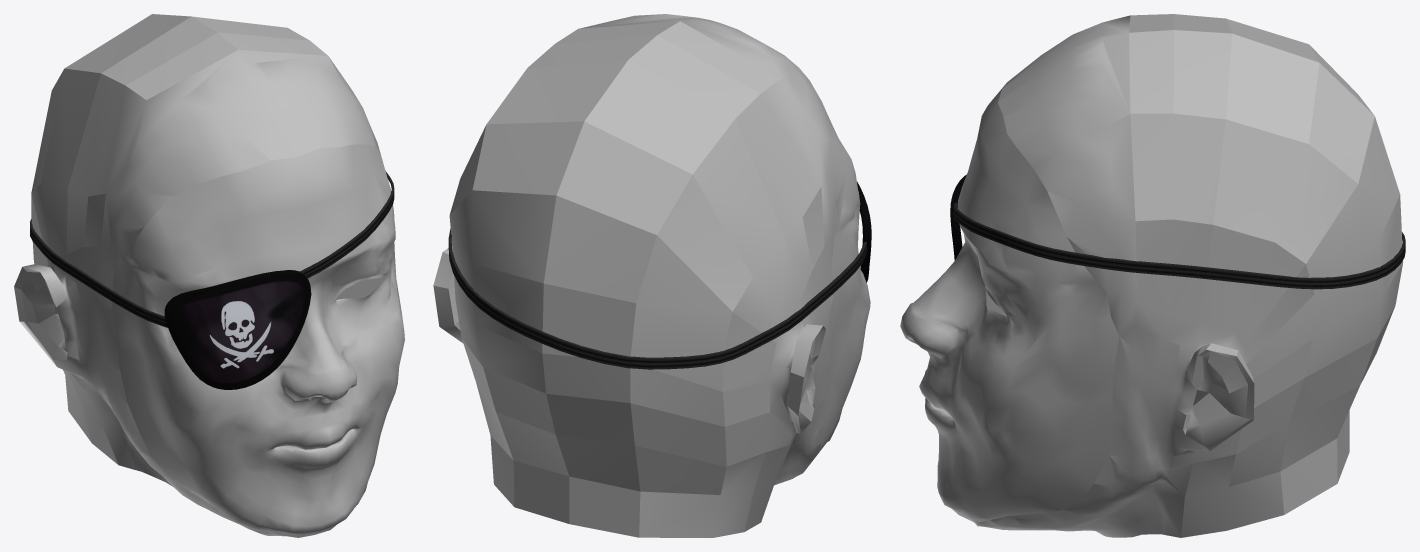
The model's file is glasses5.glb.
3 views of the same model, side by side, from view 1: azimuth 30°, elevation 25°; view 2: azimuth 150°, elevation 25°; view 3: azimuth 270°, elevation 25° (orthographic). The views are drawn at different scales.
Visible parts, largest first — view 1: Occluder, patch.001, strap1.001; view 2: Occluder, strap1.001, patch.001; view 3: Occluder, strap1.001.
Part boxes in pixels (x1=…): Occluder: x1=14, y1=14, x2=404, y2=537; patch.001: x1=164, y1=270, x2=311, y2=389; strap1.001: x1=30, y1=171, x2=394, y2=327; Occluder: x1=433, y1=14, x2=870, y2=537; strap1.001: x1=448, y1=228, x2=867, y2=369; patch.001: x1=857, y1=182, x2=871, y2=282; Occluder: x1=900, y1=14, x2=1403, y2=537; strap1.001: x1=953, y1=202, x2=1405, y2=289.
Bounding box in the file's own units: 0.1841 × 0.2347 × 0.2188.
3 materials, 2 textured.
